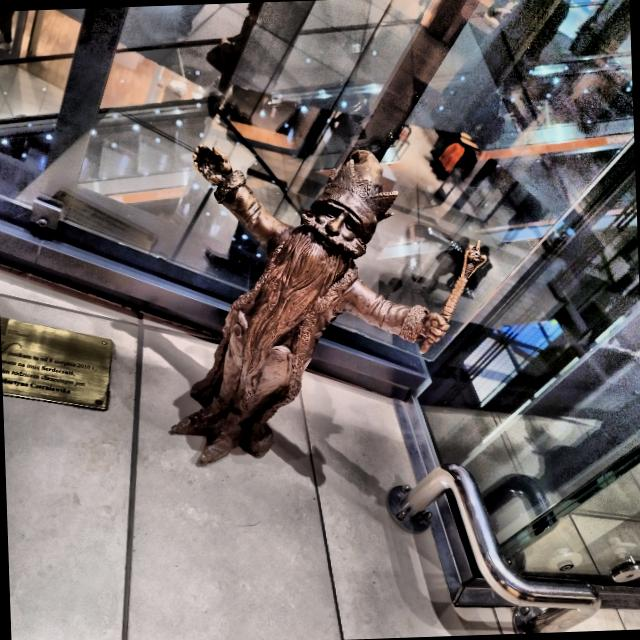Serdecznis: (174, 145, 486, 463)
